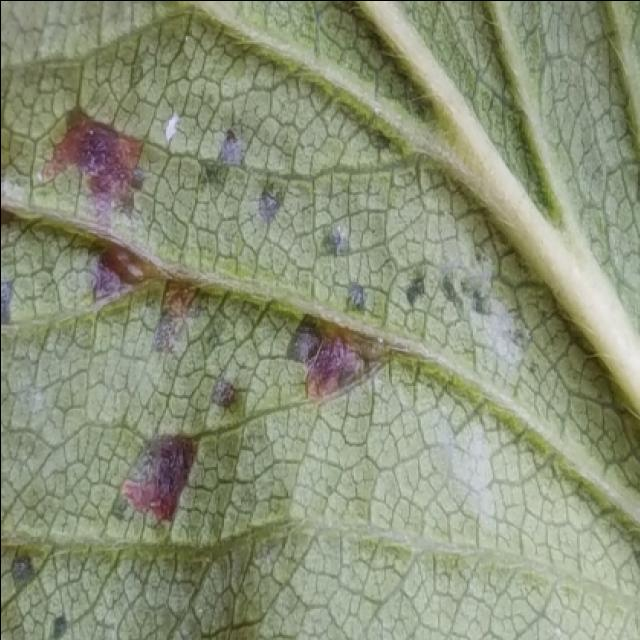Angular Leafspot: (2, 103, 538, 640)
